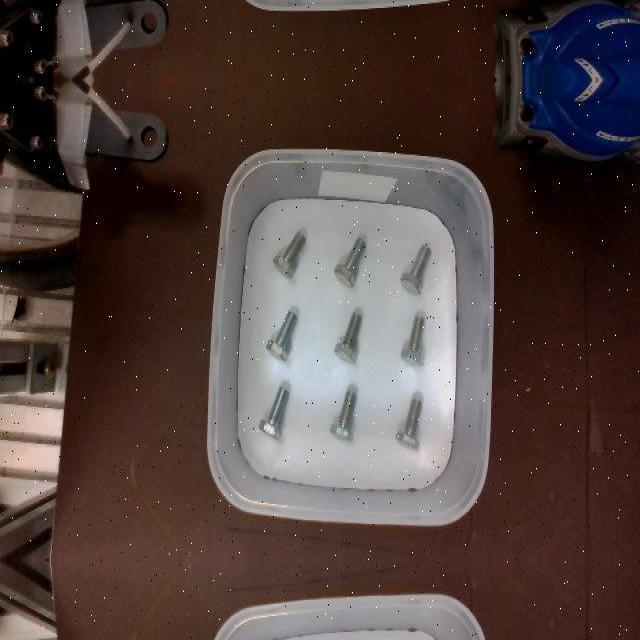screw: (259, 385, 290, 439), (273, 230, 305, 280), (334, 238, 366, 288), (400, 244, 431, 294), (266, 309, 297, 359), (334, 312, 362, 364), (329, 389, 357, 441), (396, 397, 422, 449), (401, 315, 427, 365)
